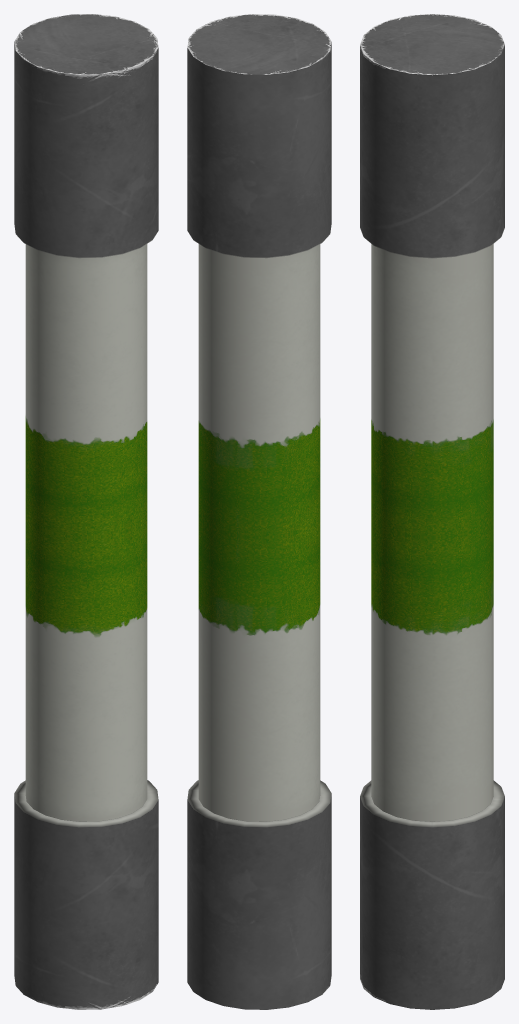
The model's file is Fusivel_G.fbx.
The picture shows the model from 3 angles, left to right: view 1: azimuth 30°, elevation 25°; view 2: azimuth 150°, elevation 25°; view 3: azimuth 270°, elevation 25°; orthographic projection.
Visible parts, largest first — view 1: Fusivel_R3; view 2: Fusivel_R3; view 3: Fusivel_R3.
Part boxes in pixels (<box>): Fusivel_R3: <box>14,14,158,1009</box>; Fusivel_R3: <box>187,14,331,1009</box>; Fusivel_R3: <box>360,14,504,1009</box>.
Bounding box in the file's own units: 4.09 × 29.1 × 4.09.
